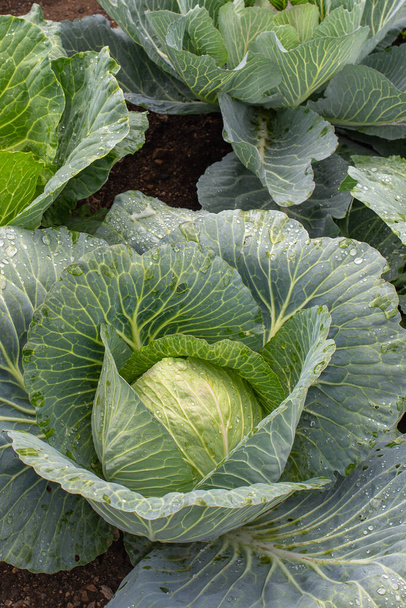cabbage: (27, 228, 351, 560)
